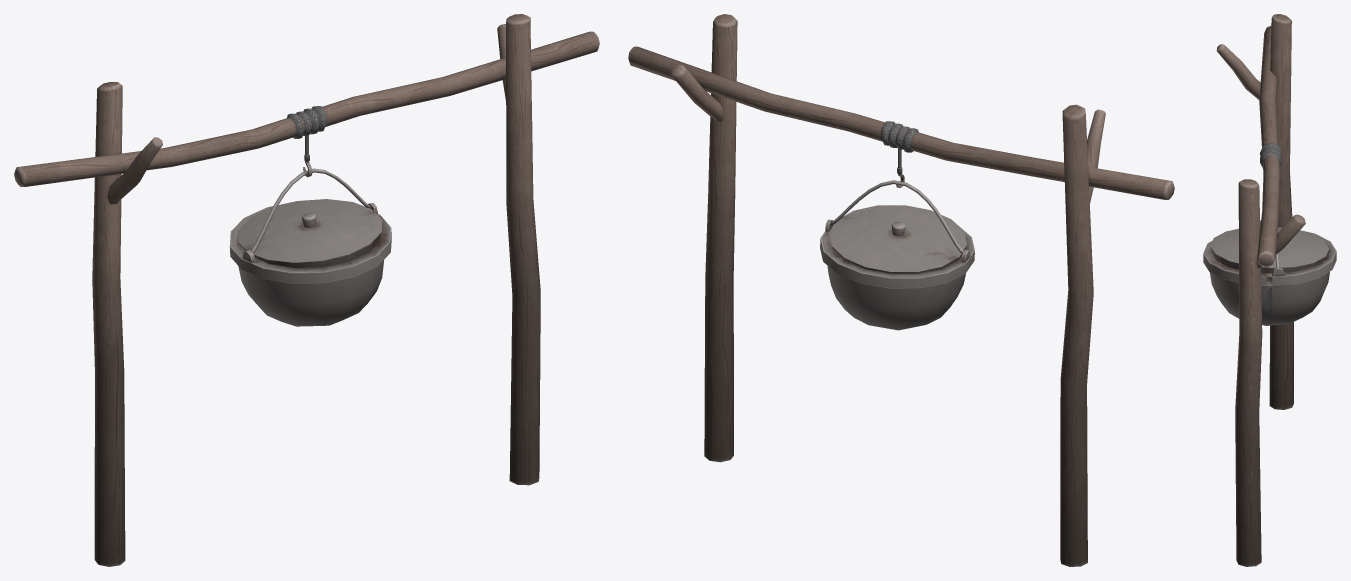
3 renders of one model, left to right at view 1: azimuth 30°, elevation 25°; view 2: azimuth 150°, elevation 25°; view 3: azimuth 270°, elevation 25°, orthographic. The views are drawn at different scales.
Parts seen in each view (by area): view 1: submesh_0; view 2: submesh_0; view 3: submesh_0.
Boxes of the visible parts, box(x1,y1,x2,y2) form: submesh_0: box(14, 14, 599, 566); submesh_0: box(628, 14, 1174, 566); submesh_0: box(1203, 14, 1336, 566).
Bounding box in the file's own units: 2.2 × 1.75 × 0.5436.
1 material, 1 textured.
